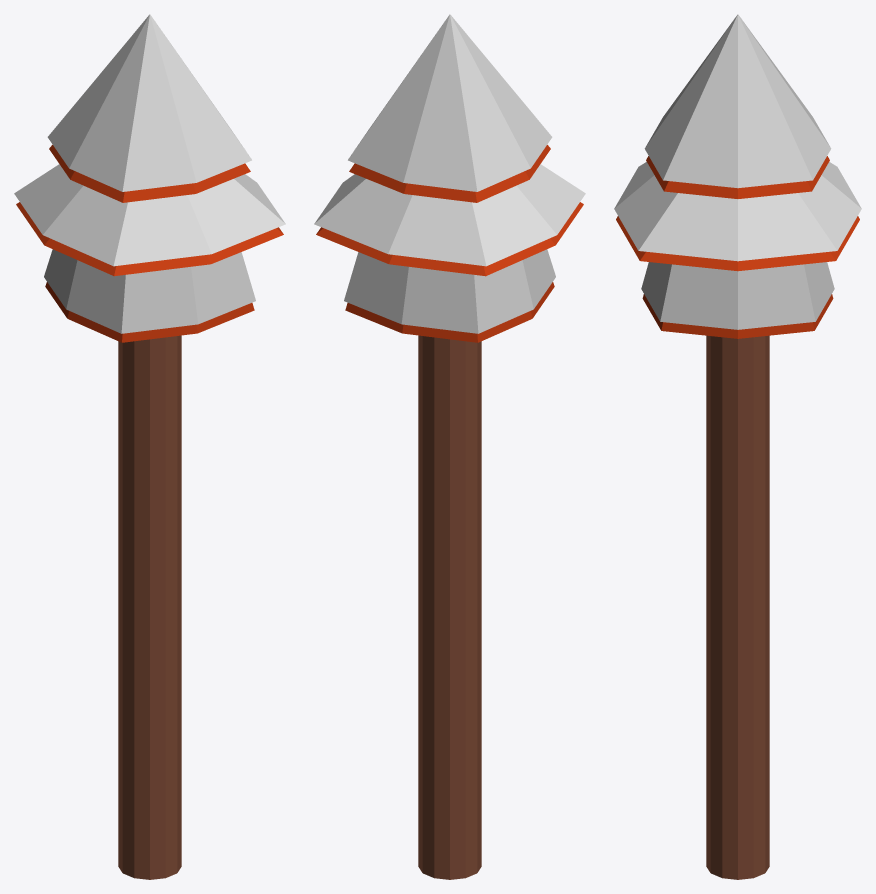
Rendered from Tree_20_winter_red_mat.fbx.
3 renders of one model, left to right at view 1: azimuth 30°, elevation 25°; view 2: azimuth 150°, elevation 25°; view 3: azimuth 270°, elevation 25°, orthographic.
Visible parts, largest first — view 1: Tree_20_winter_red_mat; view 2: Tree_20_winter_red_mat; view 3: Tree_20_winter_red_mat.
Boxes of the visible parts, x1,y1,x2,y2 form: Tree_20_winter_red_mat: (14, 14, 285, 879); Tree_20_winter_red_mat: (314, 14, 585, 879); Tree_20_winter_red_mat: (614, 14, 861, 879).
Size of the model in its own units: 86.74 by 329 by 86.74.
